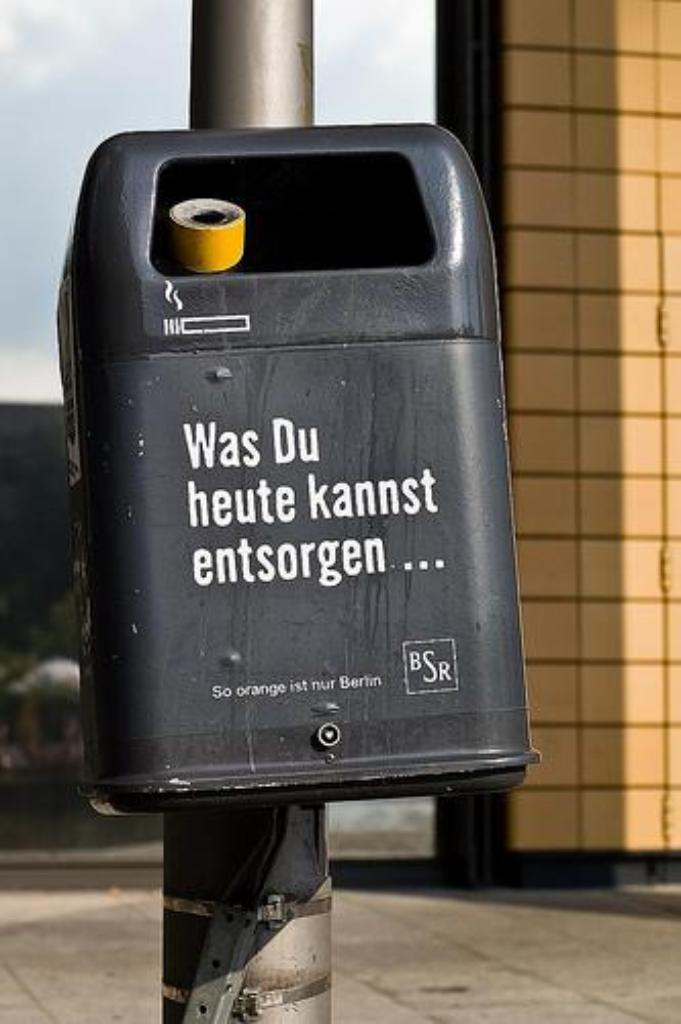dustbin: (76, 134, 542, 798)
